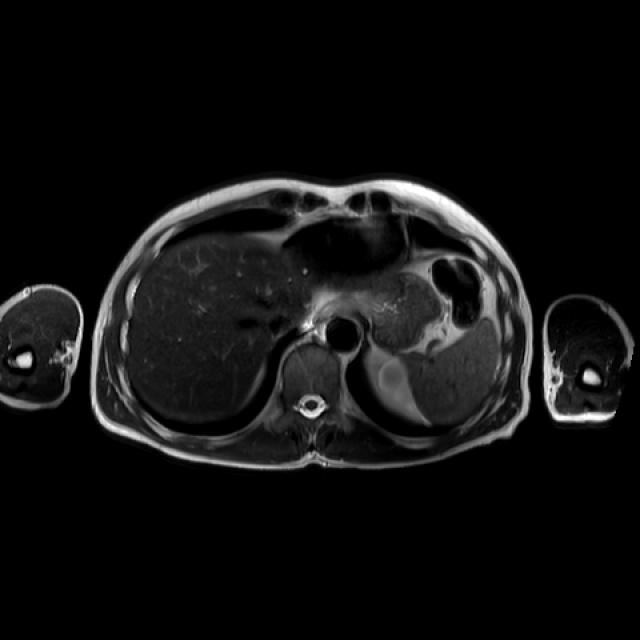sol: (371, 352, 414, 413)
